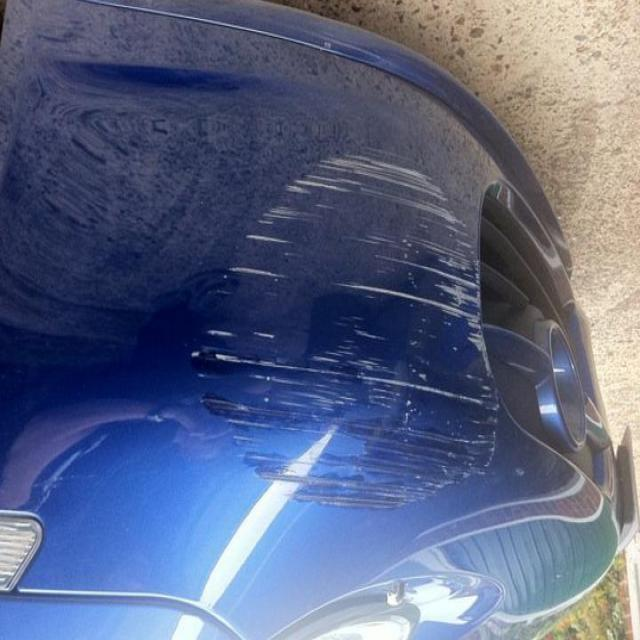scratch: (184, 148, 494, 508)
